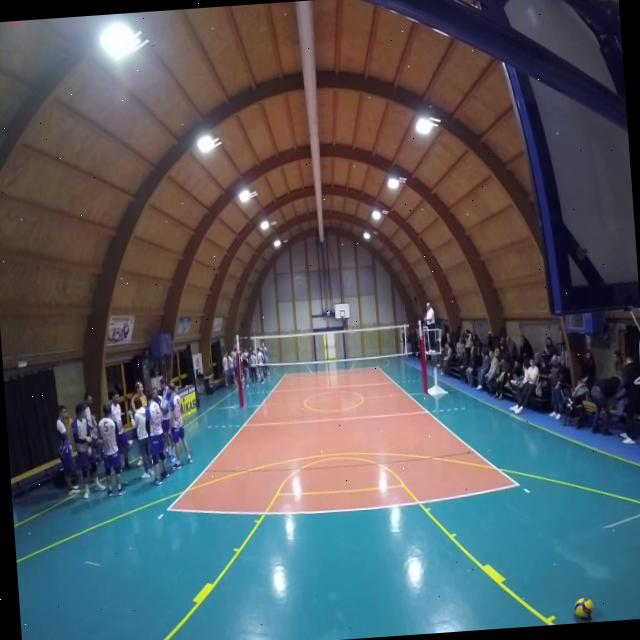Volleyball: (574, 588, 596, 622)
